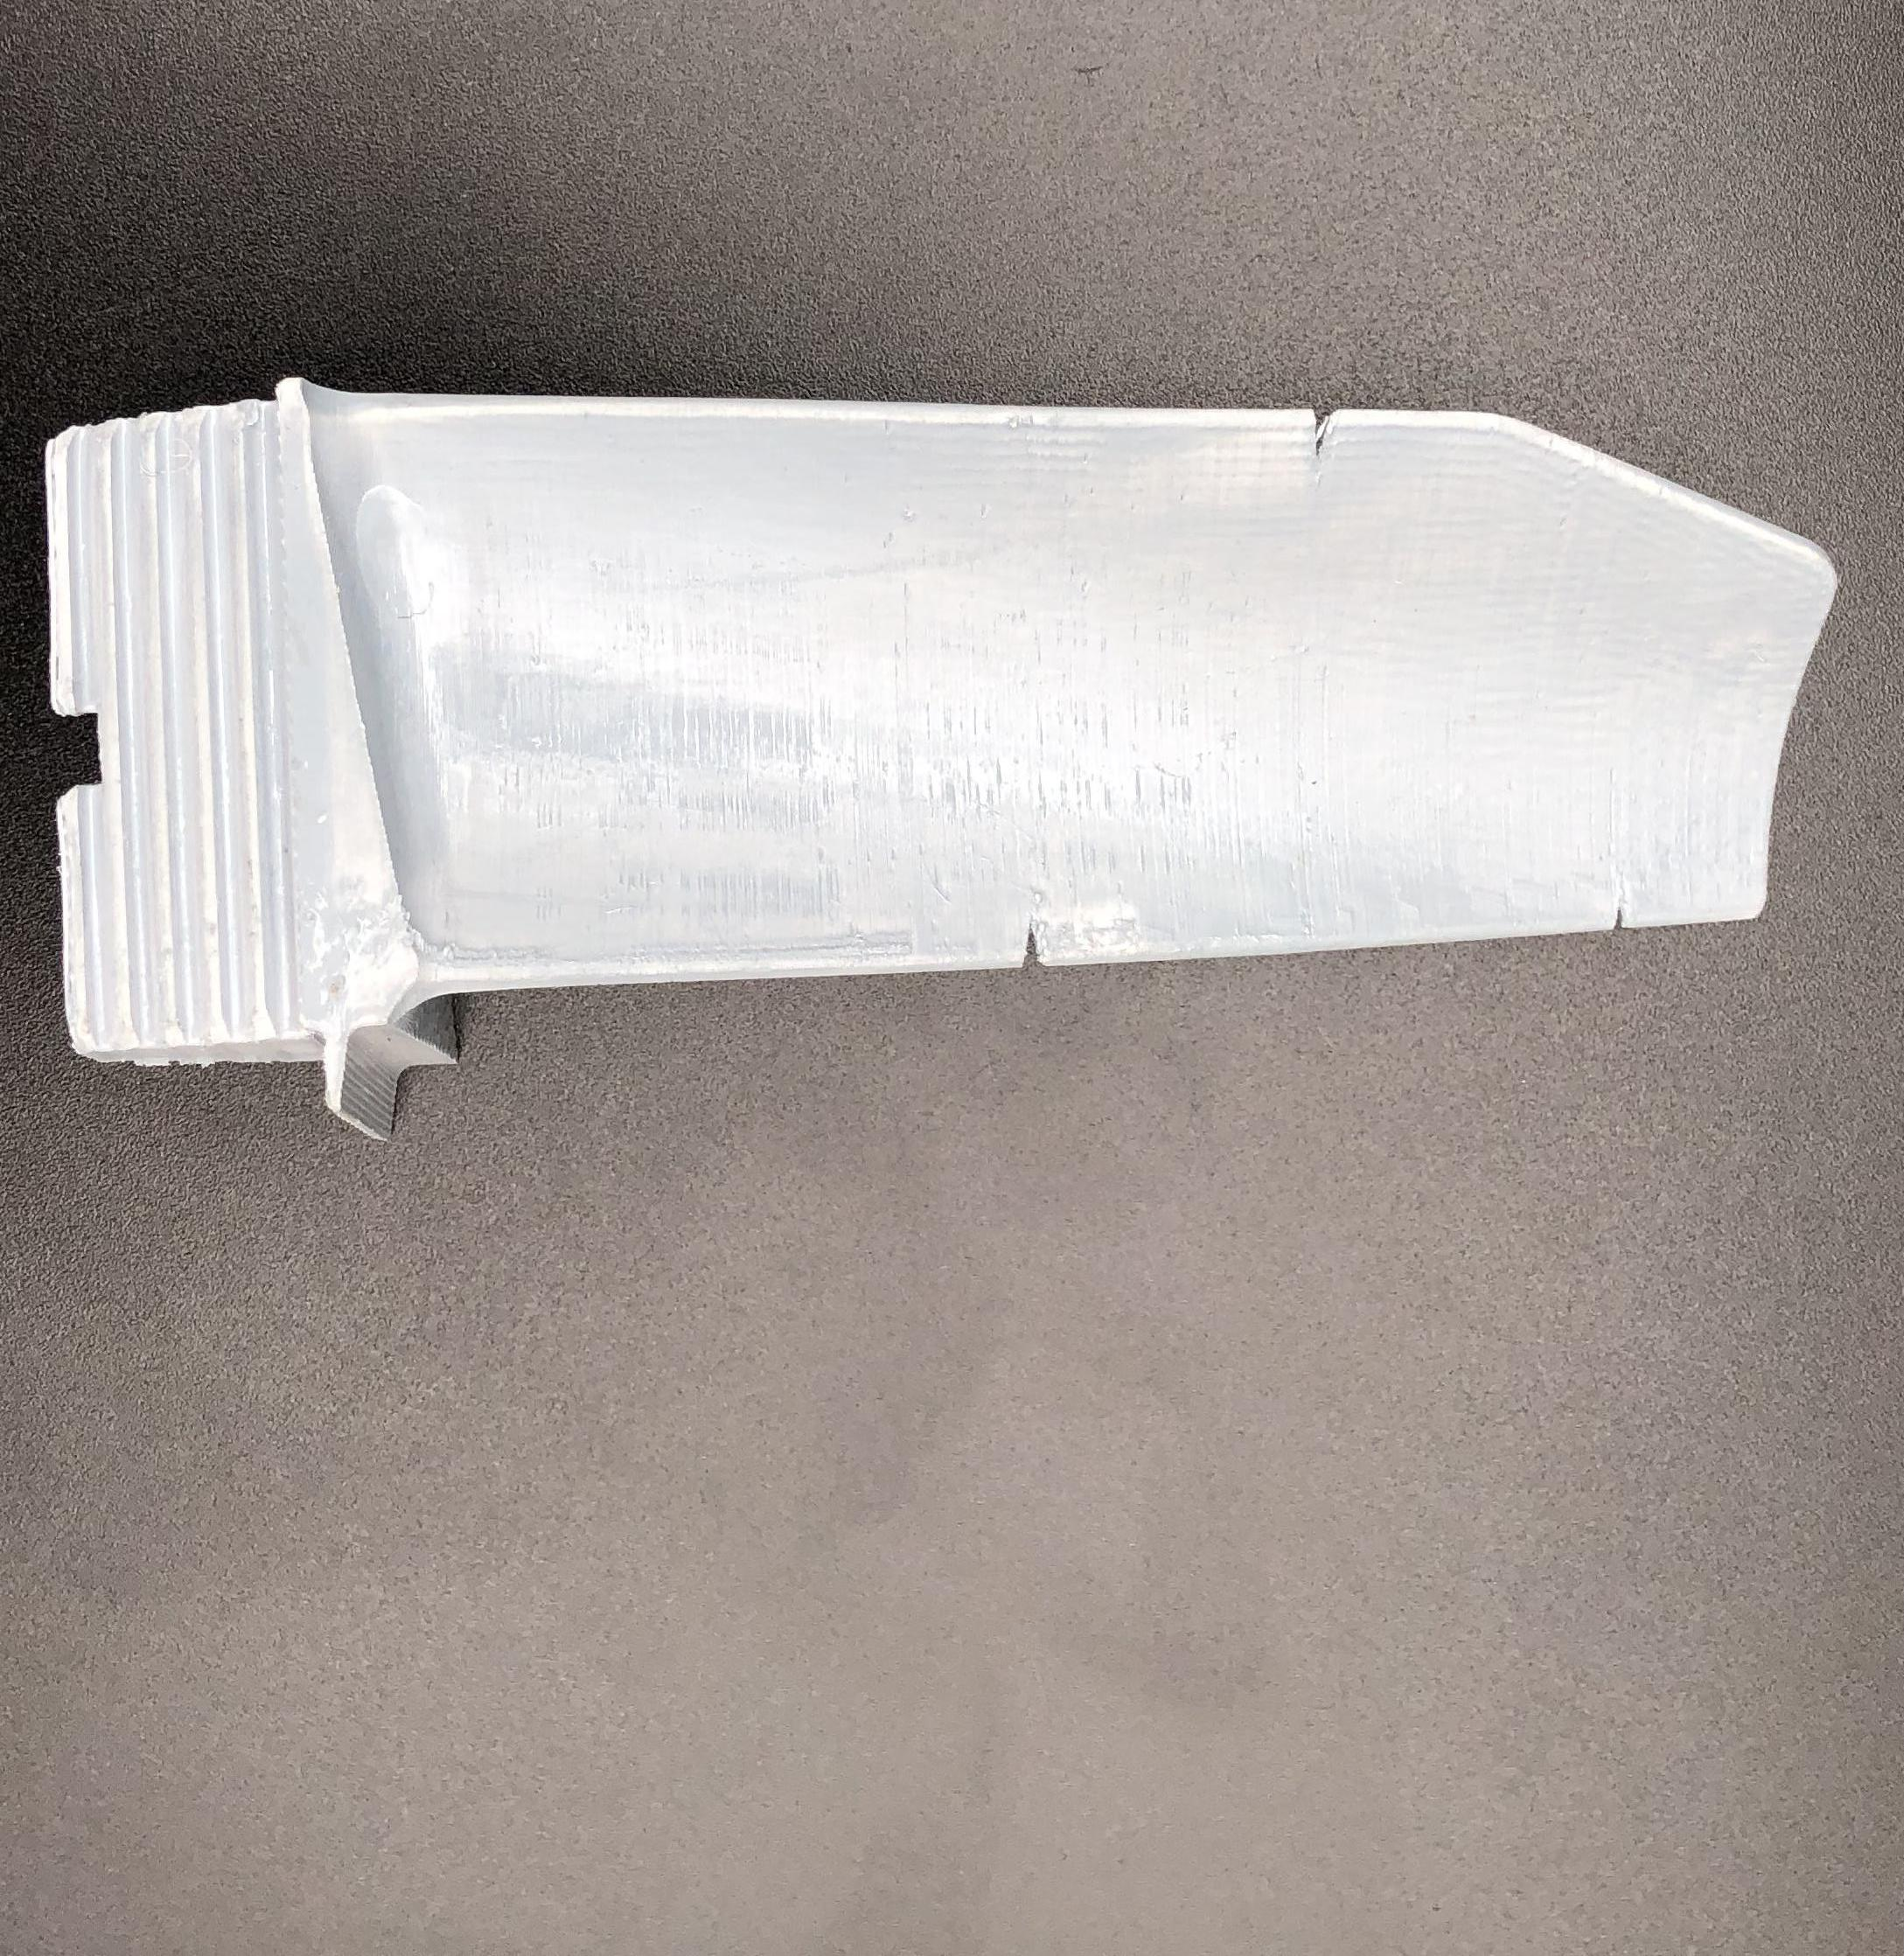groove: (1296, 398, 1359, 487), (1010, 912, 1078, 976), (1598, 889, 1652, 936)
